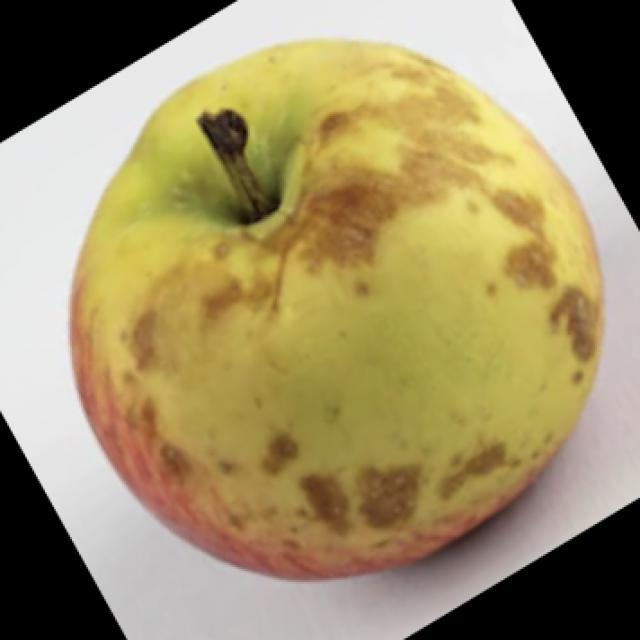Rotten: (86, 46, 582, 572)
